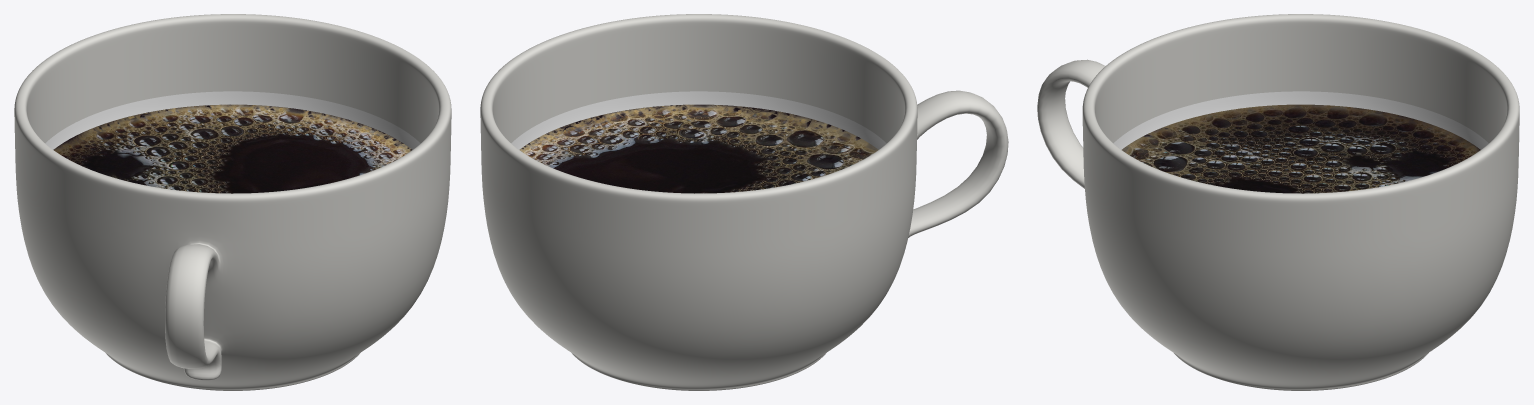
Rendered from cup.glb.
The picture shows the model from 3 angles, left to right: view 1: azimuth 30°, elevation 25°; view 2: azimuth 150°, elevation 25°; view 3: azimuth 270°, elevation 25°; orthographic projection.
Visible parts, largest first — view 1: Cup of Coffee; view 2: Cup of Coffee; view 3: Cup of Coffee.
Boxes of the visible parts, x1,y1,x2,y2 form: Cup of Coffee: (14, 14, 451, 390); Cup of Coffee: (480, 14, 1008, 390); Cup of Coffee: (1037, 14, 1519, 390).
Bounding box in the file's own units: 0.5795 × 0.3361 × 0.6397.
3 materials, 1 textured.
